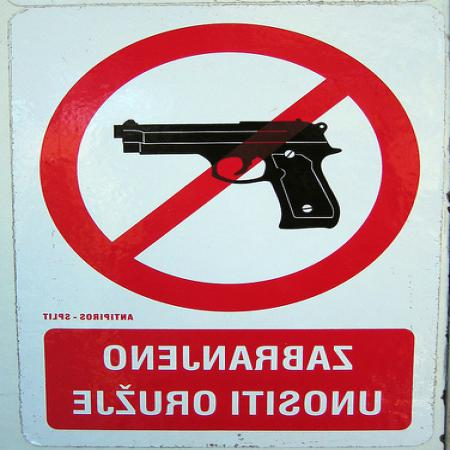Pistol: (114, 118, 344, 227)
